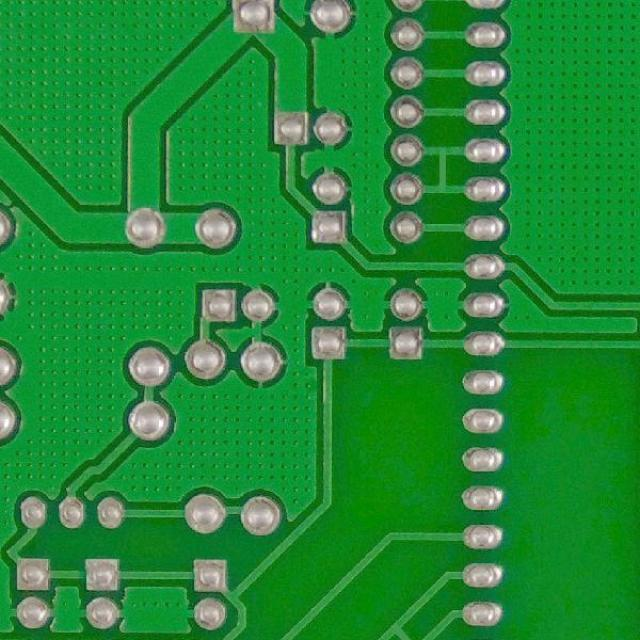Short_Circuit: (382, 613, 444, 640), (430, 137, 455, 200)
